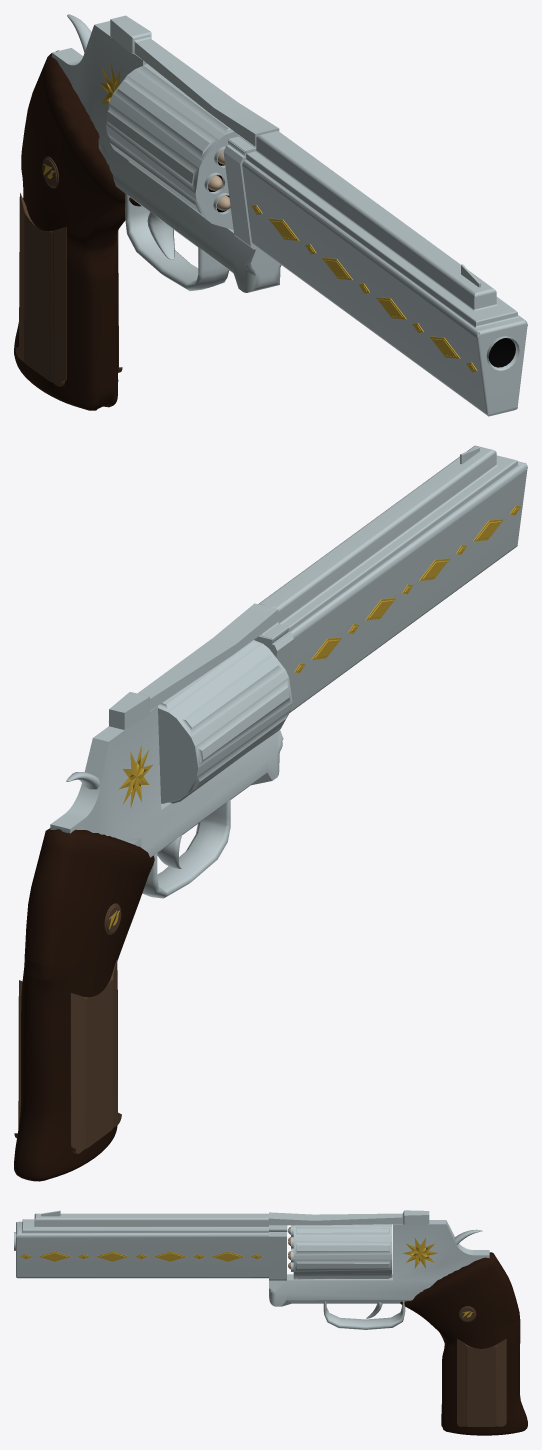
The model's file is RevolverNew.fbx.
3 views of the same model, one above another, from view 1: azimuth 30°, elevation 25°; view 2: azimuth 150°, elevation 25°; view 3: azimuth 270°, elevation 25° (orthographic). The views are drawn at different scales.
Visible parts, largest first — view 1: Revolver; view 2: Revolver; view 3: Revolver.
Boxes of the visible parts, x1,y1,x2,y2 form: Revolver: (14, 14, 527, 416); Revolver: (14, 445, 527, 1181); Revolver: (14, 1210, 527, 1435).
Bounding box in the file's own units: 1.18 × 4.73 × 9.99.
